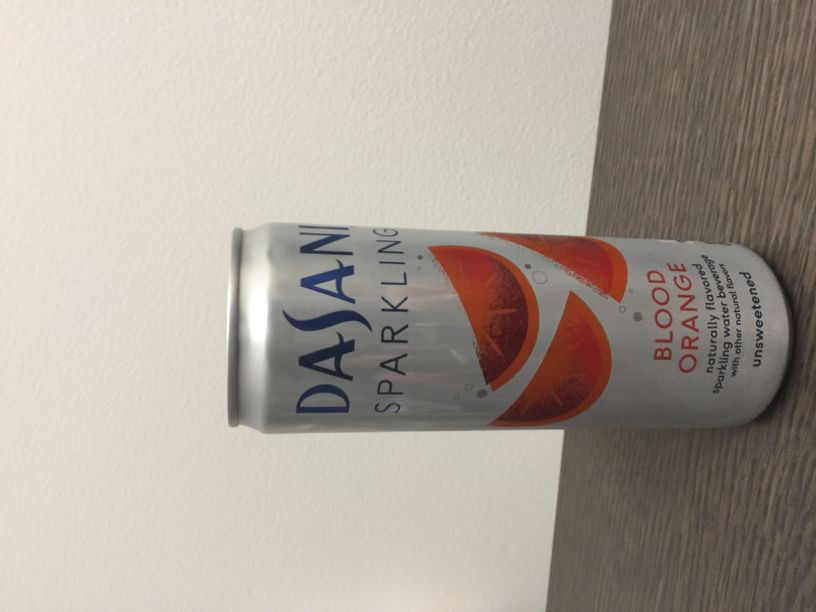blood_orange: (225, 221, 792, 434)
